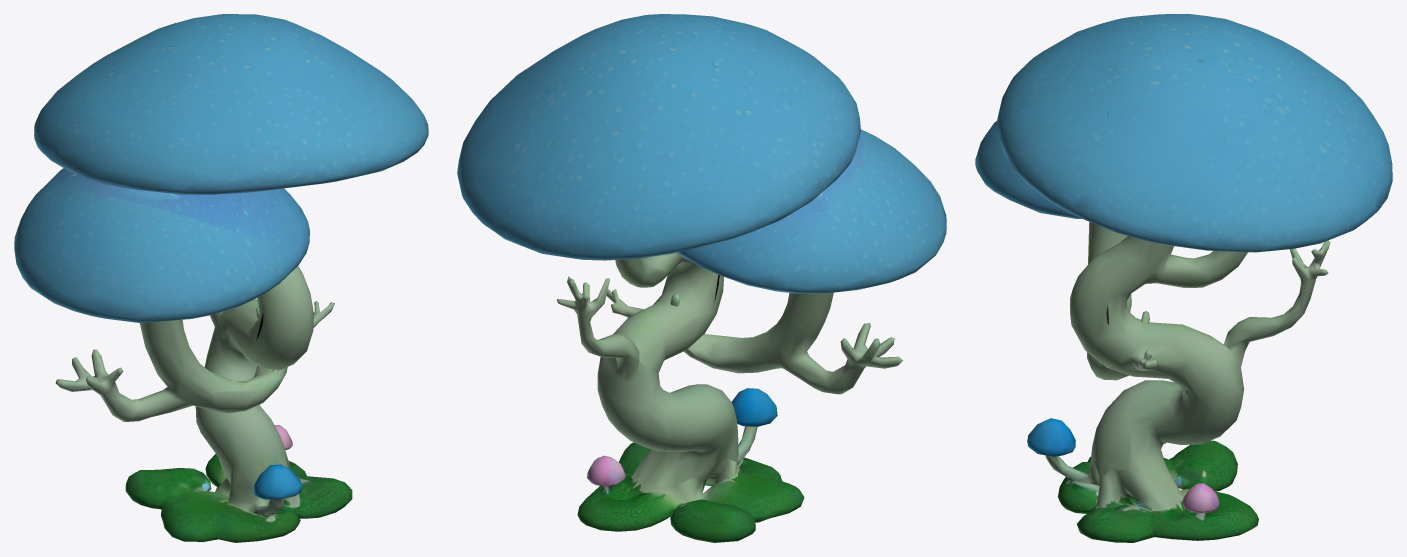
The model's file is albero-funghiDoppi-MID.fbx.
3 views of the same model, side by side, from view 1: azimuth 30°, elevation 25°; view 2: azimuth 150°, elevation 25°; view 3: azimuth 270°, elevation 25° (orthographic). The views are drawn at different scales.
Parts seen in each view (by area): view 1: fungoDoppio; view 2: fungoDoppio; view 3: fungoDoppio.
Boxes of the visible parts, box(x1,y1,x2,y2) form: fungoDoppio: box(14, 14, 428, 542); fungoDoppio: box(457, 14, 946, 542); fungoDoppio: box(975, 14, 1392, 542).
Size of the model in its own units: 2637 by 2952 by 2343.
1 material, 1 textured.
